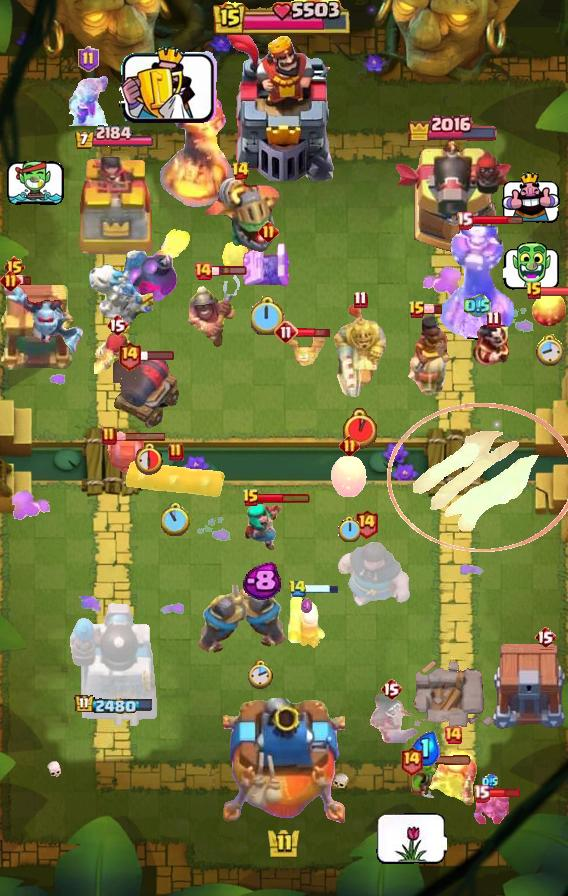bandit: (364, 691, 418, 743)
bar: (258, 492, 311, 504), (471, 215, 524, 226), (421, 755, 473, 766), (115, 431, 167, 442), (296, 326, 331, 339), (211, 265, 248, 277), (139, 349, 175, 361), (487, 787, 522, 799), (304, 583, 339, 594), (540, 286, 568, 297), (424, 304, 443, 315), (13, 275, 32, 286)
bar-level: (399, 745, 424, 776), (354, 508, 379, 539), (117, 340, 142, 371), (274, 320, 298, 344), (3, 255, 26, 279), (78, 46, 99, 72), (380, 677, 402, 701), (534, 625, 556, 649), (106, 313, 128, 337), (339, 435, 360, 456), (0, 270, 21, 291), (258, 221, 279, 242), (443, 725, 463, 745), (193, 261, 213, 281), (231, 161, 250, 181), (288, 579, 307, 598), (242, 488, 260, 508), (408, 300, 426, 320), (525, 281, 543, 301), (473, 784, 490, 803), (456, 211, 473, 230), (168, 442, 184, 462), (101, 426, 117, 446), (486, 310, 501, 329), (353, 290, 368, 309)
bomb: (124, 227, 196, 301)
bomber: (94, 332, 140, 374)
cannoneer-tower: (392, 138, 514, 256), (69, 599, 159, 731)
clock: (343, 408, 377, 449), (251, 296, 285, 335), (132, 441, 163, 475), (534, 332, 564, 366), (161, 503, 191, 536), (248, 659, 274, 690), (338, 516, 360, 542)
electro-wizard: (472, 322, 514, 370)
elixir: (242, 562, 281, 601), (410, 731, 440, 766), (464, 294, 491, 318), (482, 774, 498, 790), (301, 598, 313, 614)
emote: (119, 47, 220, 126), (375, 812, 447, 864), (502, 172, 560, 224), (503, 242, 560, 290), (7, 160, 65, 206)
firecracker: (286, 592, 328, 650)
goblin: (408, 758, 442, 802)
ice-spirit: (215, 242, 259, 276)
king-tower: (223, 31, 345, 181), (223, 698, 345, 826)
king-tower-bar: (213, 0, 355, 38)
knight: (197, 585, 248, 655), (236, 579, 287, 649)
lava-pup: (283, 333, 325, 367)
little-prince: (67, 76, 109, 126)
mega-minion: (0, 281, 86, 359)
miner: (185, 273, 243, 351)
minion: (471, 789, 509, 827)
phoenix-egg: (329, 455, 369, 499), (532, 290, 566, 328)
queen-tower: (71, 154, 157, 256)
ram-rider: (406, 315, 452, 395)
rascal-girl: (241, 501, 283, 553)
tesla: (242, 239, 294, 289)
the-log: (126, 461, 226, 497)
tower-bar: (407, 112, 499, 141), (74, 125, 155, 151), (74, 694, 154, 716)
wall-breaker: (94, 436, 144, 490)
wizard: (426, 739, 480, 809)
